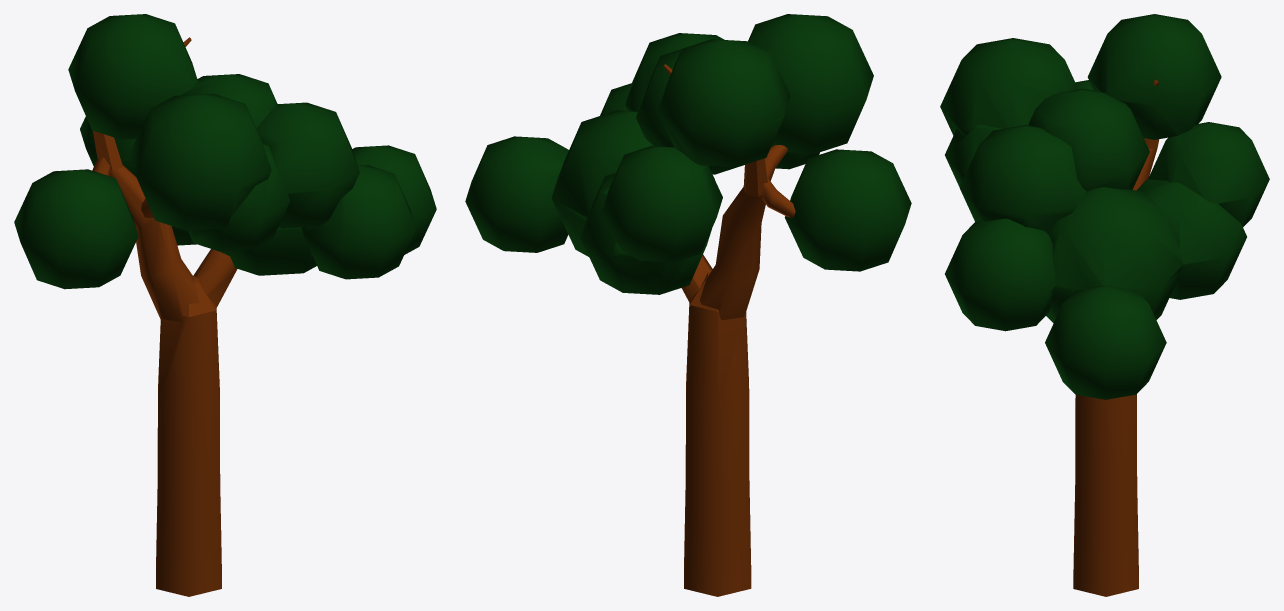
The model's file is nat_001.FBX.
3 views of the same model, side by side, from view 1: azimuth 30°, elevation 25°; view 2: azimuth 150°, elevation 25°; view 3: azimuth 270°, elevation 25° (orthographic). The views are drawn at different scales.
Visible parts, largest first — view 1: Sphere005, Cylinder001; view 2: Sphere005, Cylinder001; view 3: Sphere005, Cylinder001.
Boxes of the visible parts, box(x1,y1,x2,y2) form: Sphere005: box(14, 14, 436, 289); Cylinder001: box(92, 37, 237, 596); Sphere005: box(465, 14, 911, 294); Cylinder001: box(663, 64, 795, 596); Sphere005: box(940, 14, 1269, 399); Cylinder001: box(1073, 80, 1159, 596).
Size of the model in its own units: 99.44 by 126 by 68.61.
